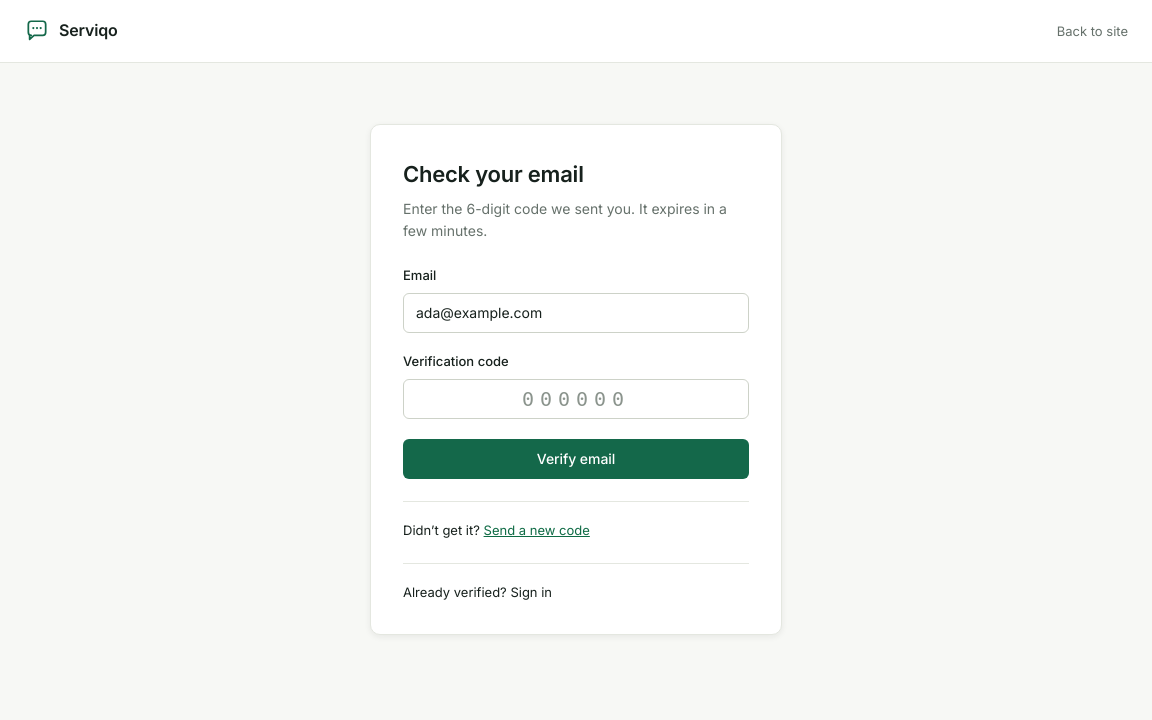
Test: verification › strips non-digits as they are typed
The width and height of the screenshot is (1152, 720).
Step 1. Type "12ab34cd" into the field labelled "Verification code" → (576, 399), box [403, 379, 749, 419]
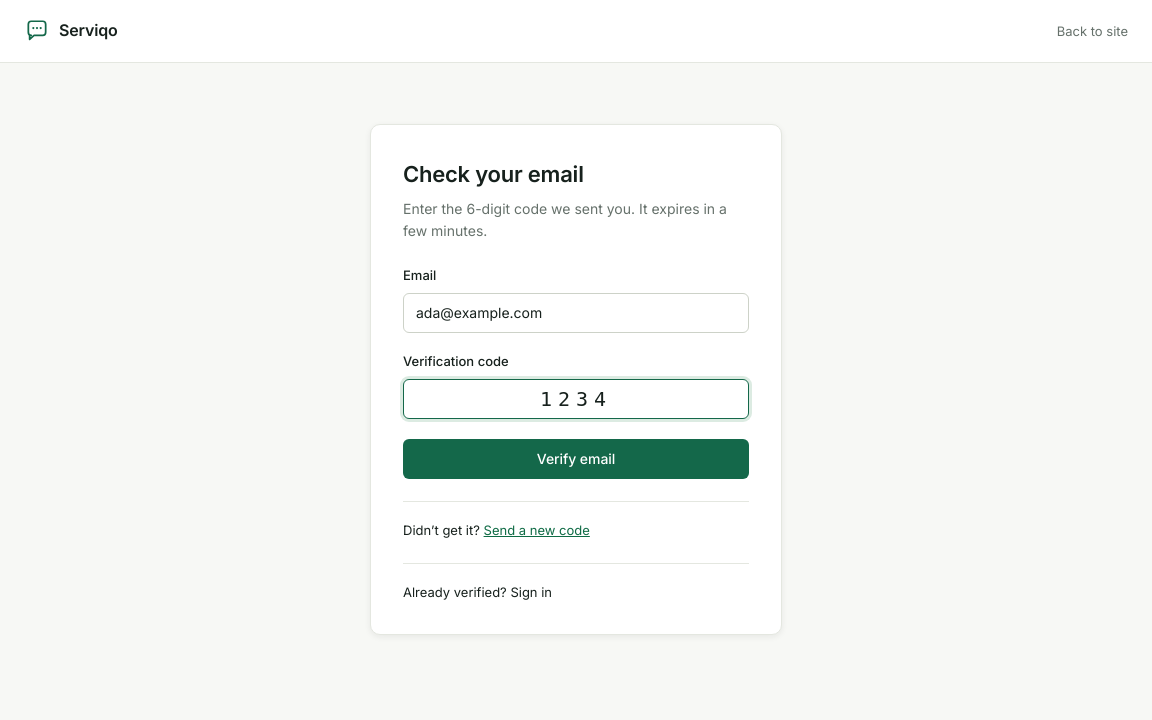
Now the field labelled "Verification code" holds "1234", box [403, 379, 749, 419]
